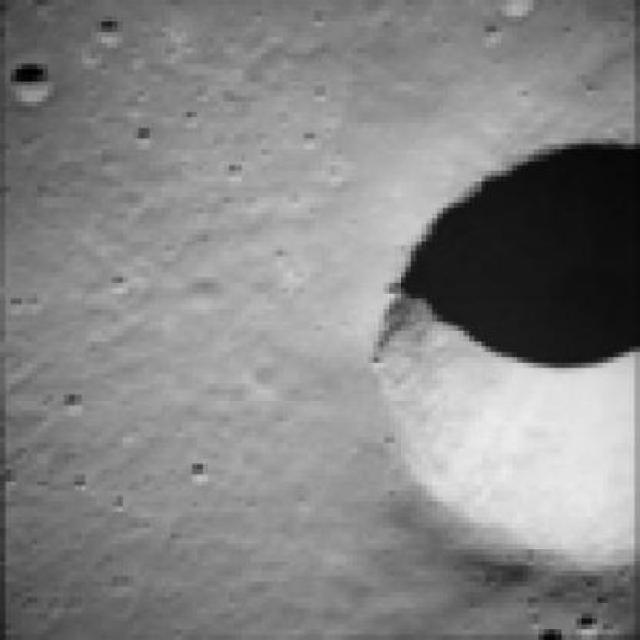crater: (374, 140, 638, 565), (10, 65, 45, 100)
